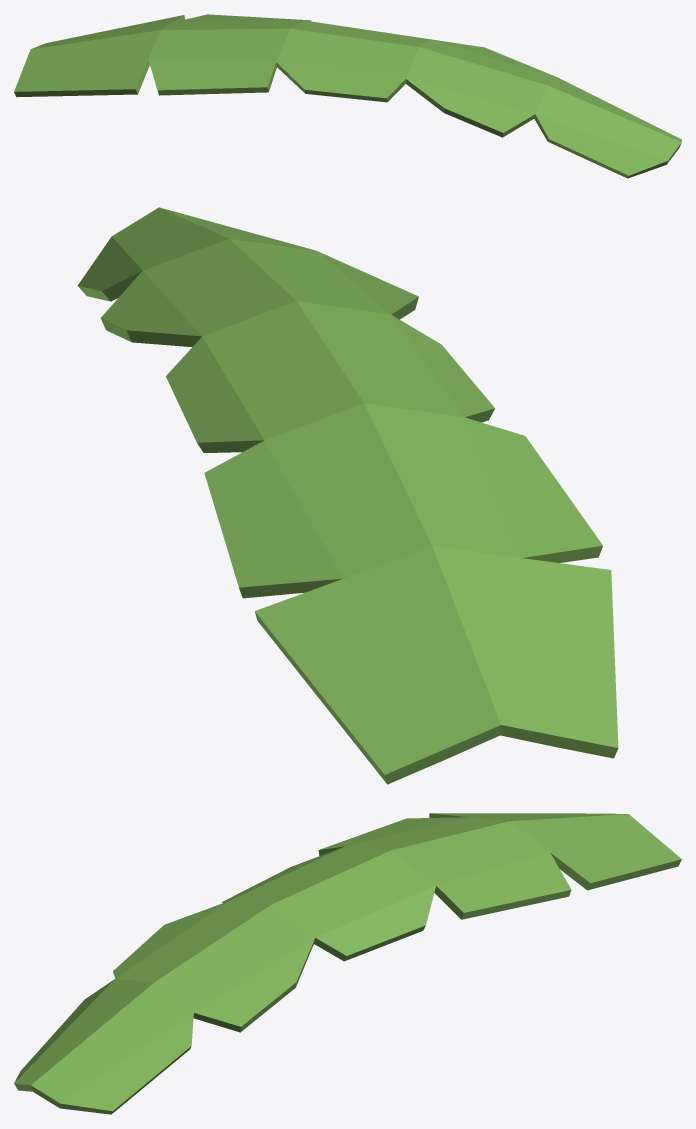
The model's file is Palm frond to just scatter around.fbx.
3 views of the same model, one above another, from view 1: azimuth 30°, elevation 25°; view 2: azimuth 150°, elevation 25°; view 3: azimuth 270°, elevation 25° (orthographic). The views are drawn at different scales.
Visible parts, largest first — view 1: Plane.028; view 2: Plane.028; view 3: Plane.028.
Part boxes in pixels (x1,y1,x2,y2): Plane.028: [14, 14, 681, 178]; Plane.028: [77, 207, 618, 784]; Plane.028: [14, 813, 681, 1114].
Bounding box in the file's own units: 190 × 35.36 × 192.
